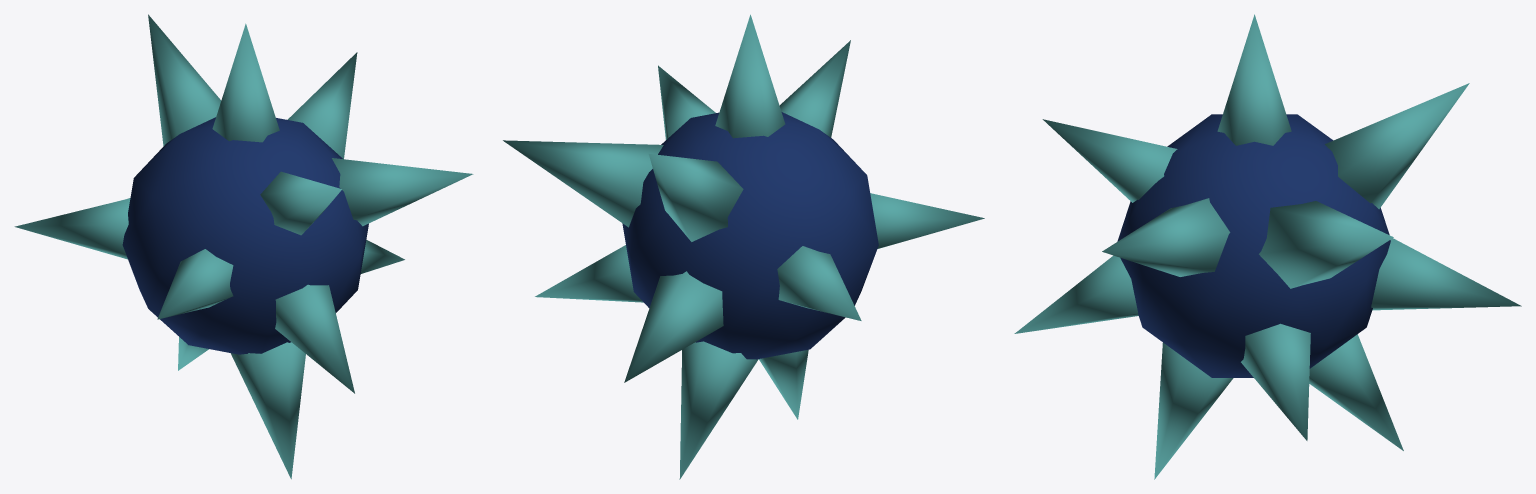
File: шипастая хуйня 2.fbx
The picture shows the model from 3 angles, left to right: view 1: azimuth 30°, elevation 25°; view 2: azimuth 150°, elevation 25°; view 3: azimuth 270°, elevation 25°; orthographic projection. The views are drawn at different scales.
Visible parts, largest first — view 1: Icosphere; view 2: Icosphere; view 3: Icosphere.
Boxes of the visible parts, bbox=[...] form: Icosphere: bbox=[14, 14, 473, 479]; Icosphere: bbox=[503, 14, 984, 479]; Icosphere: bbox=[1014, 14, 1521, 479].
Size of the model in its own units: 319 by 366 by 362.
